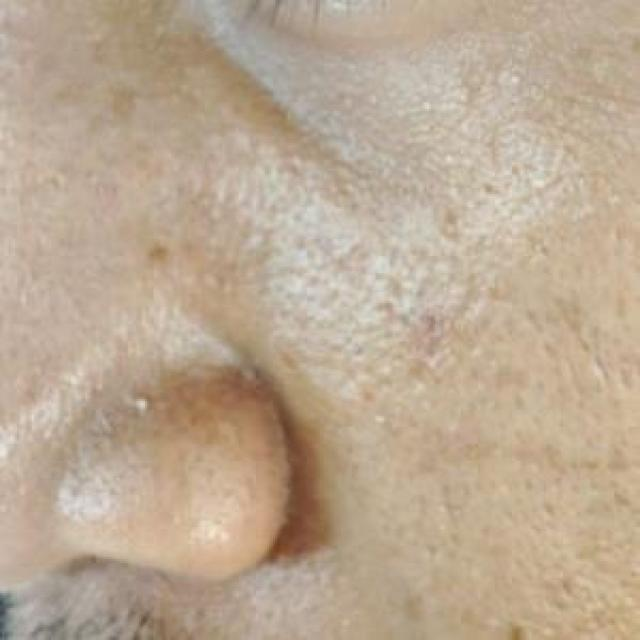Oily-Skin: (0, 1, 469, 519)
